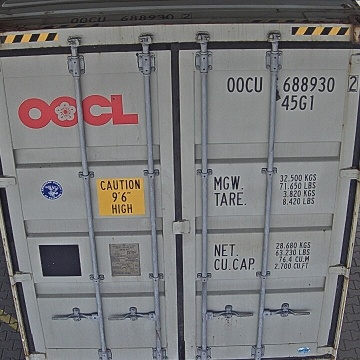serial_id: (227, 75, 358, 92)
